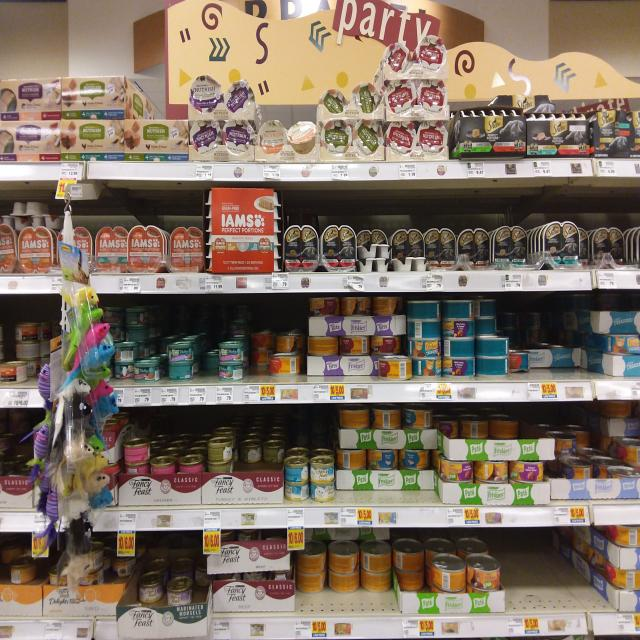100- O.O.S: (507, 535, 575, 633)
